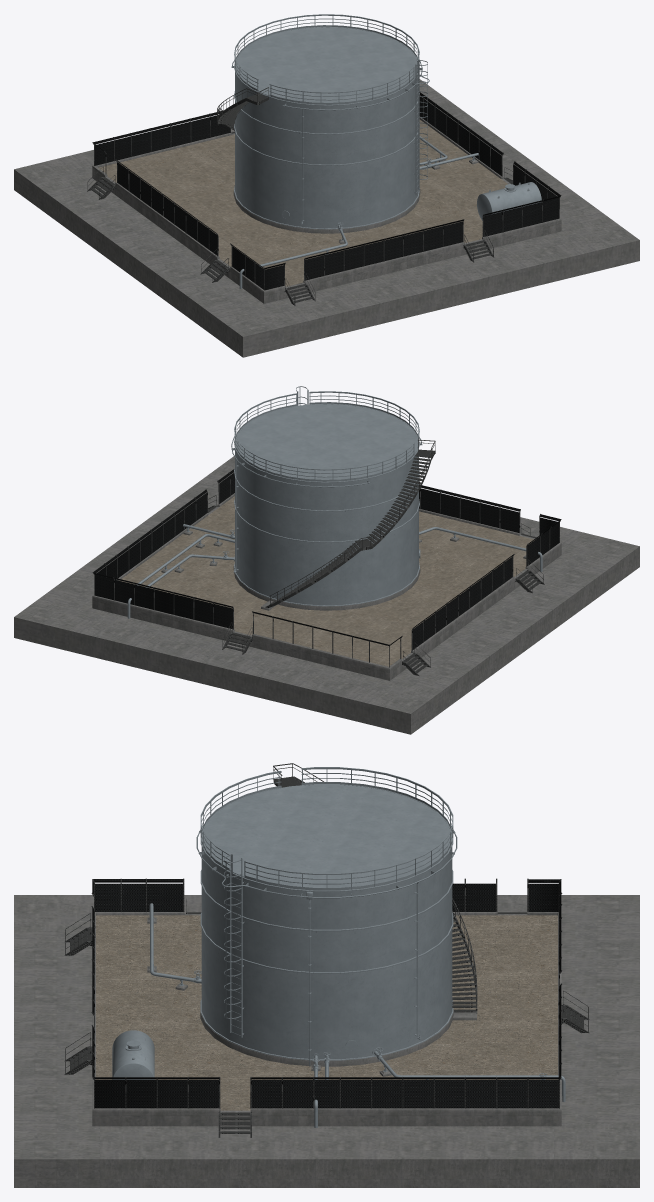
File: SM_FuelSilo_1.fbx
The picture shows the model from 3 angles, top to bottom: view 1: azimuth 30°, elevation 25°; view 2: azimuth 150°, elevation 25°; view 3: azimuth 270°, elevation 25°; orthographic projection. The views are drawn at different scales.
Parts seen in each view (by area): view 1: SM_FuelSilo_1_LOD0; view 2: SM_FuelSilo_1_LOD0; view 3: SM_FuelSilo_1_LOD0.
Boxes of the visible parts, <box> form: SM_FuelSilo_1_LOD0: <box>14,14,639,357</box>; SM_FuelSilo_1_LOD0: <box>14,386,639,734</box>; SM_FuelSilo_1_LOD0: <box>14,763,639,1187</box>.
Bounding box in the file's own units: 4000 × 4000 × 1672.
8 materials, 8 textured.
